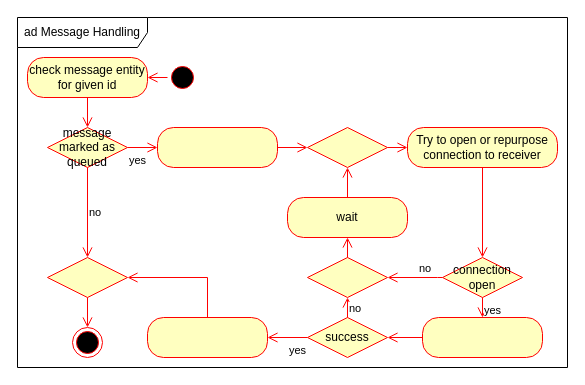
The diagram is 585 pixels wide and 385 high, and some of its shapes have lost their labels. Each missing label, with the centre of its shape:
create HL7v2 message: pixel 217 147
mark message entity as sent: pixel 207 337
Send message and receive response: pixel 482 337
